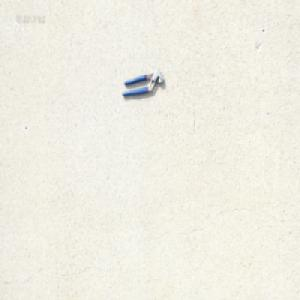Pliers: (121, 69, 164, 98)
